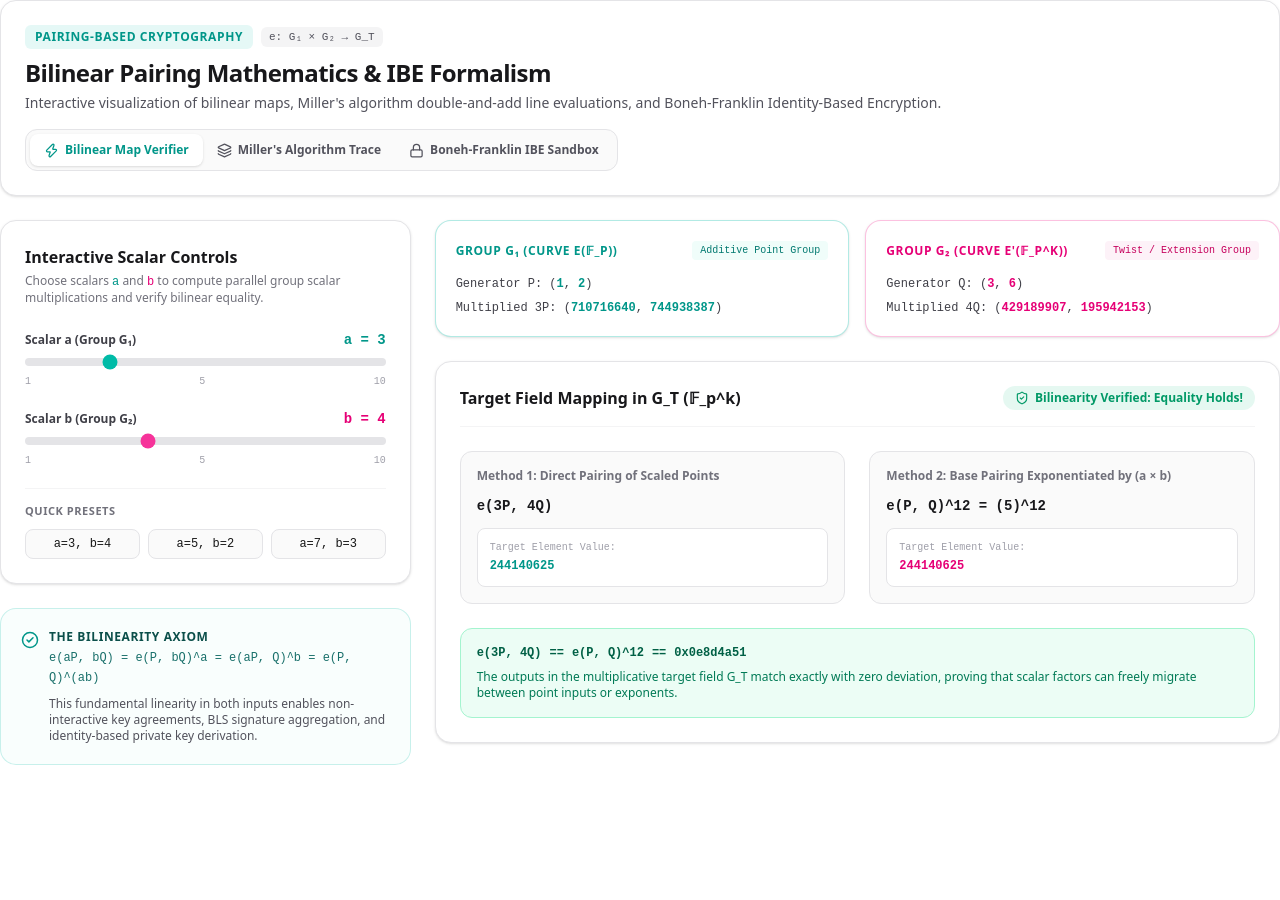
Scenario: PairingVisualizer UI Component (#1043) › allows switching between tabs
# Switch to Miller's algorithm tab
Click the button "Miller's Algorithm Trace".
click(299, 150)  # box [203,134,395,166]
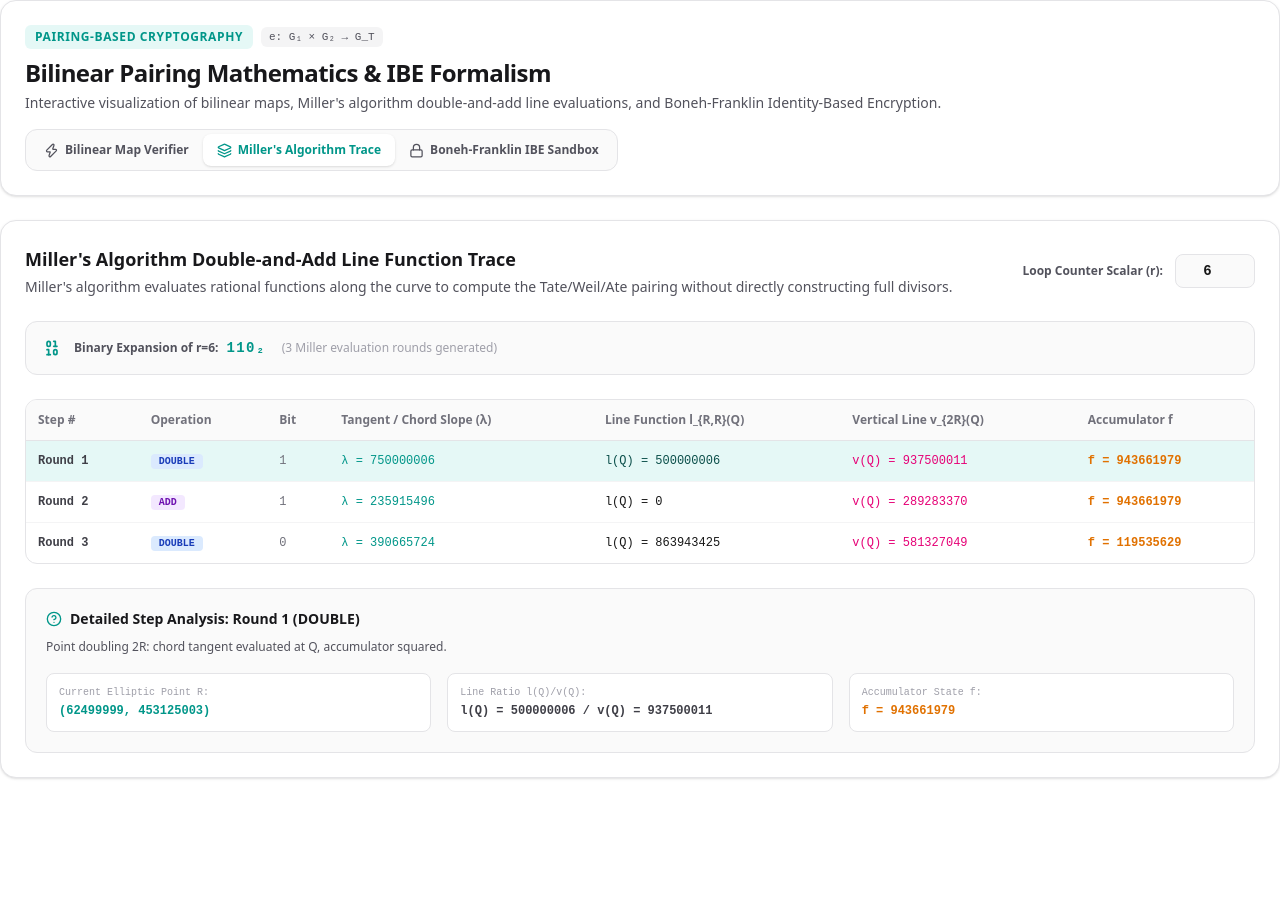
expect the heading "Miller's Algorithm Double-and-Add Line Function Trace" is shown: met, box [25,247,516,271]
# Switch to IBE tab
Click the button "Boneh-Franklin IBE Sandbox".
click(504, 150)  # box [395,134,613,166]
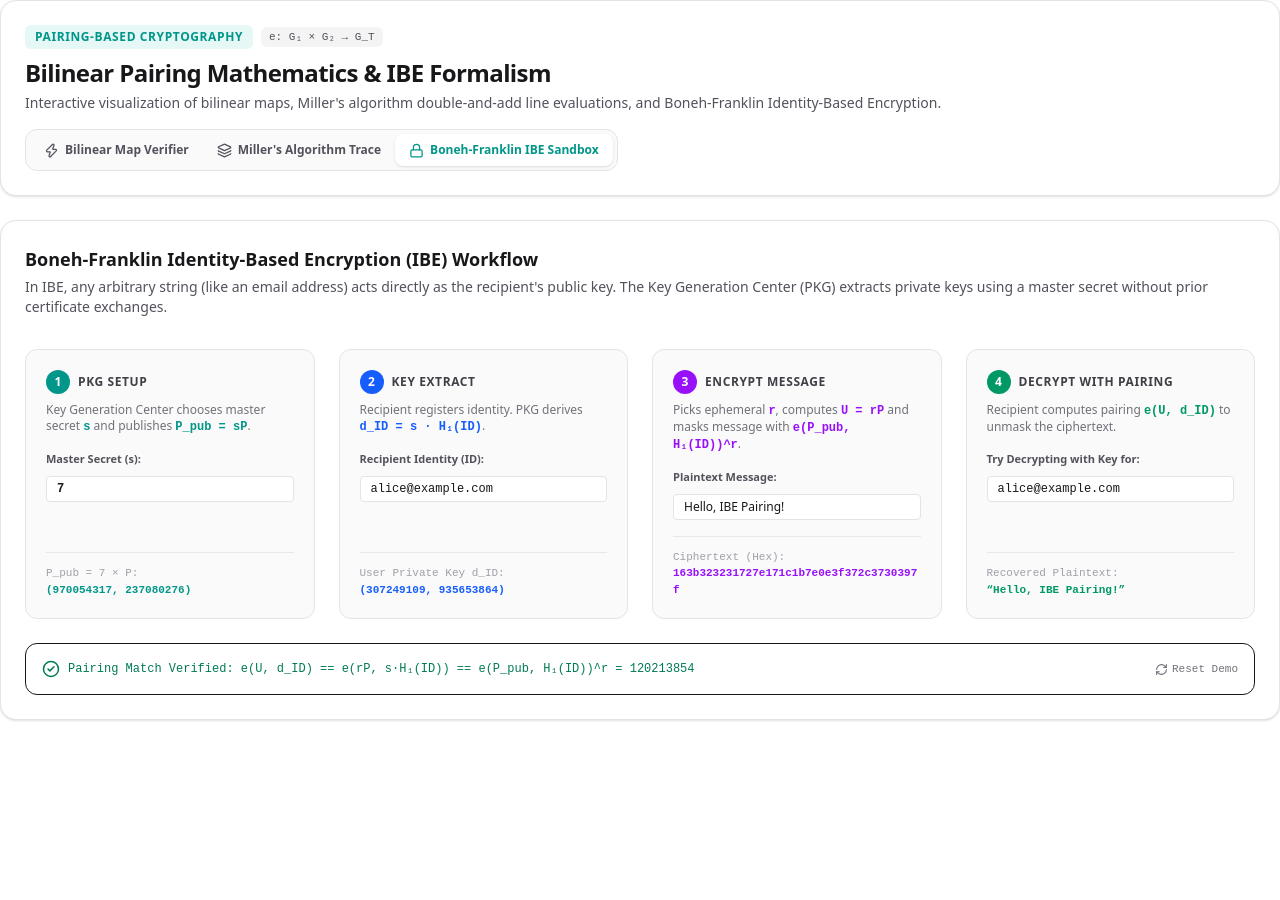
expect the heading "Boneh-Franklin Identity-Based Encryption (IBE) Workflow" is shown: met, box [25,247,538,271]
